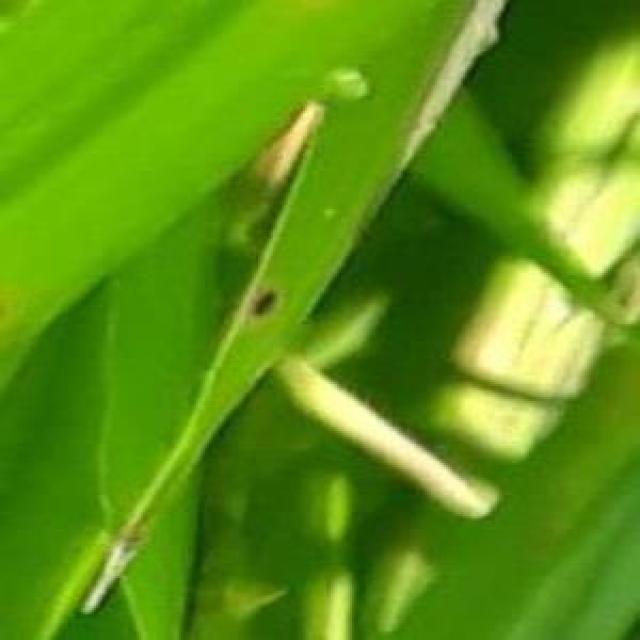Brown_Spot: (250, 290, 277, 318)
